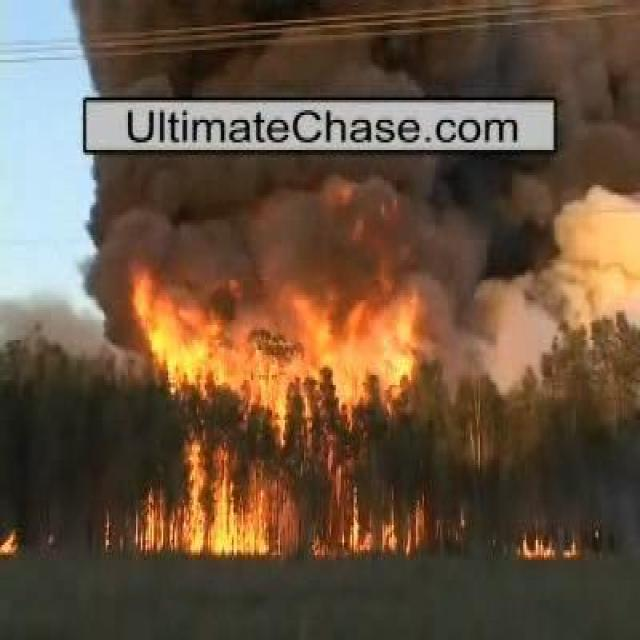Fire: (155, 310, 370, 408), (176, 438, 286, 558), (307, 494, 426, 561)
Smoke: (92, 150, 607, 315)
